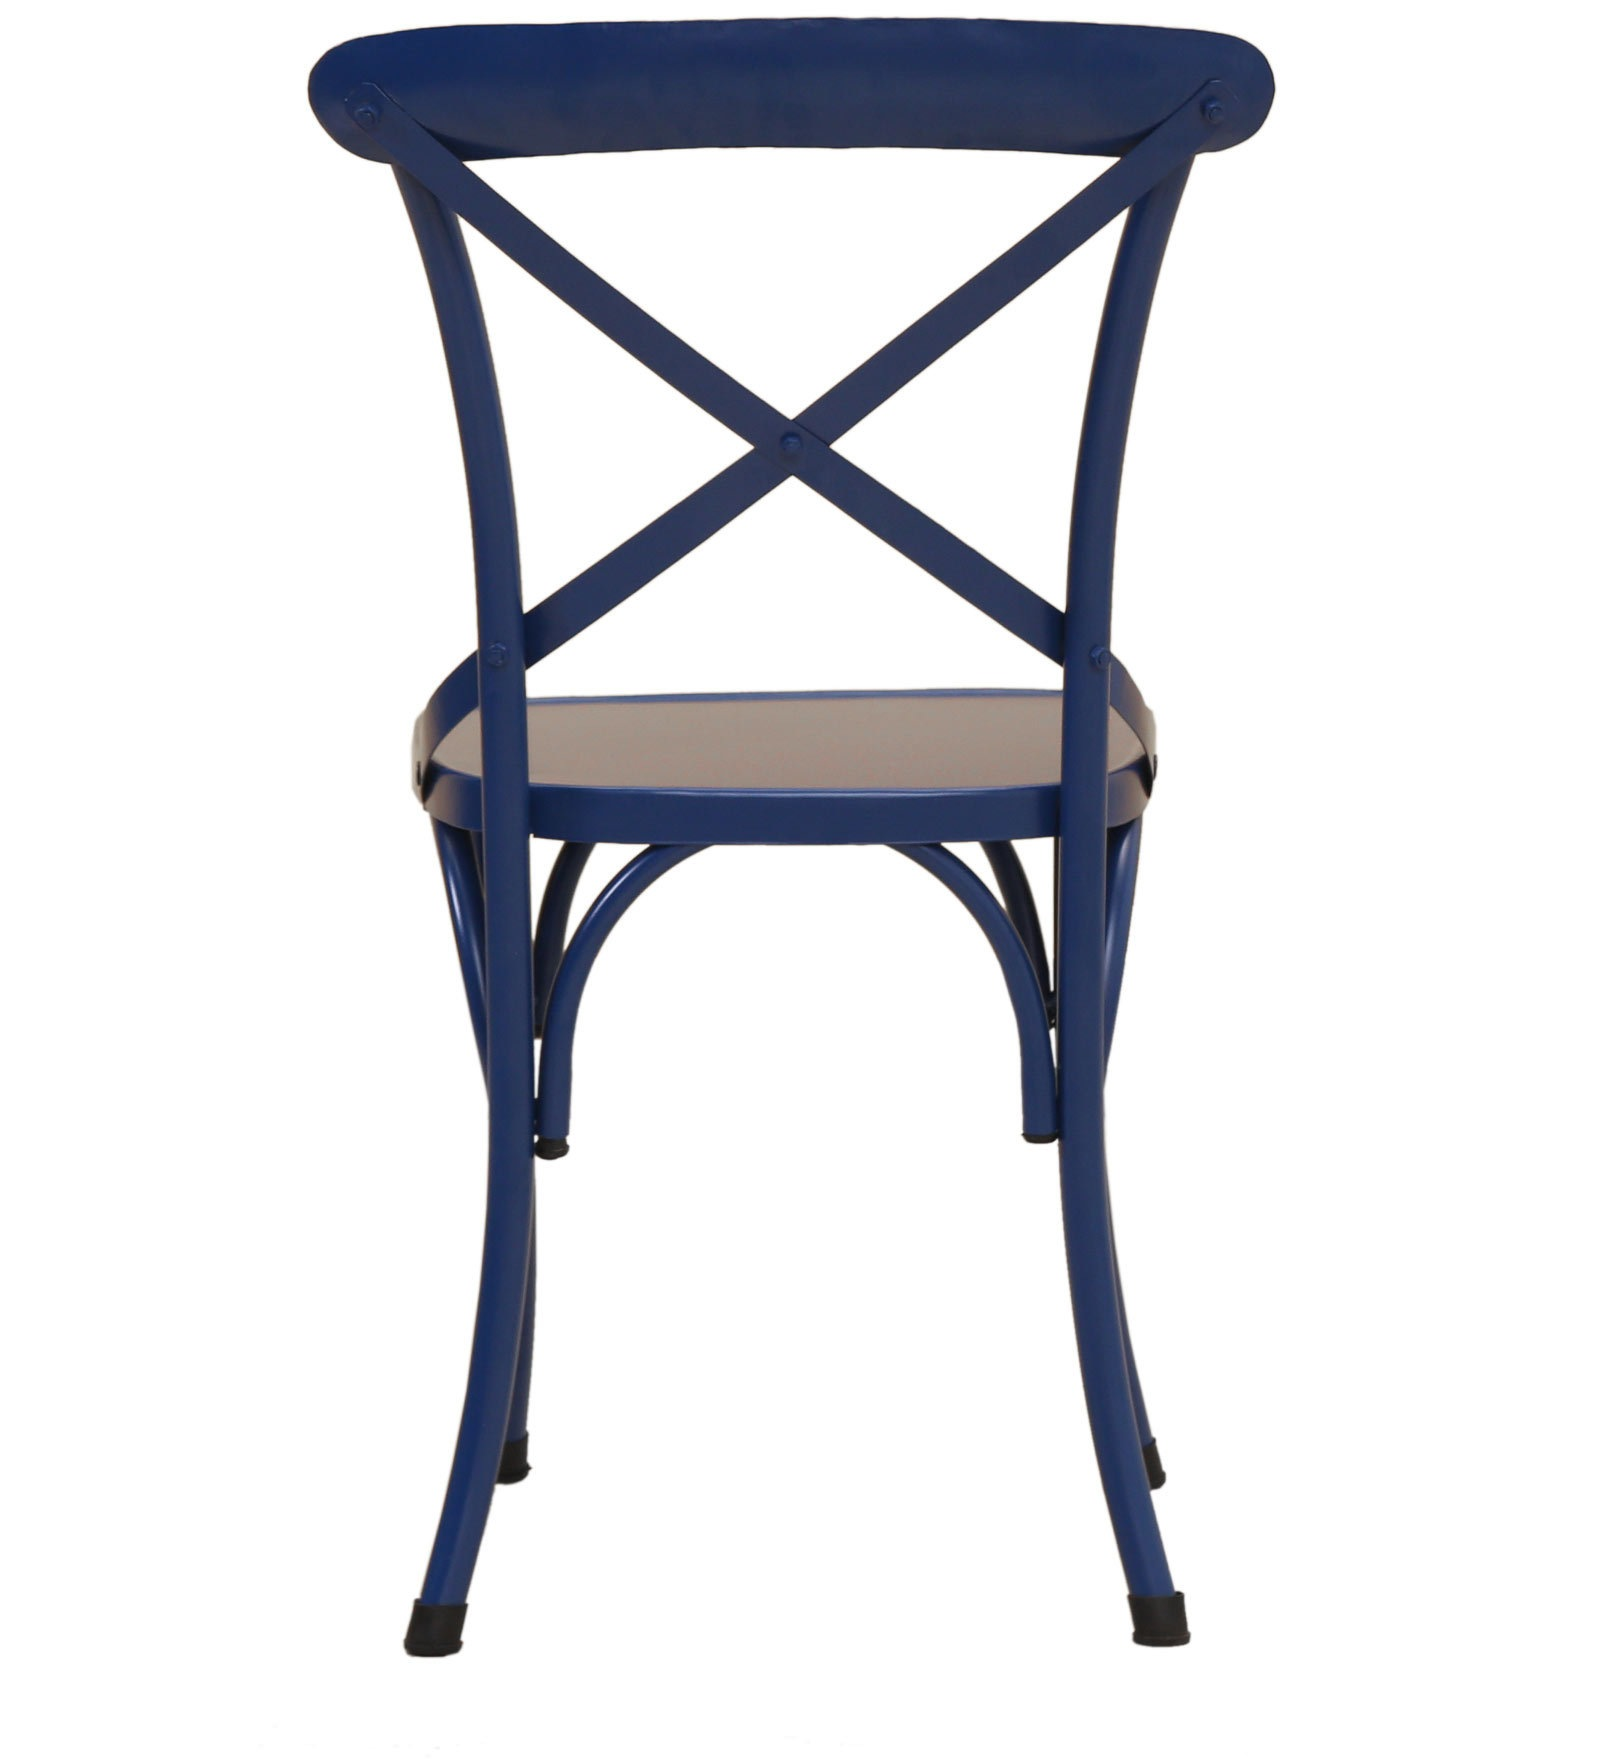Fabian Metal Chair in Blue Color by Bohemiana: (274, 8, 1329, 1709)
